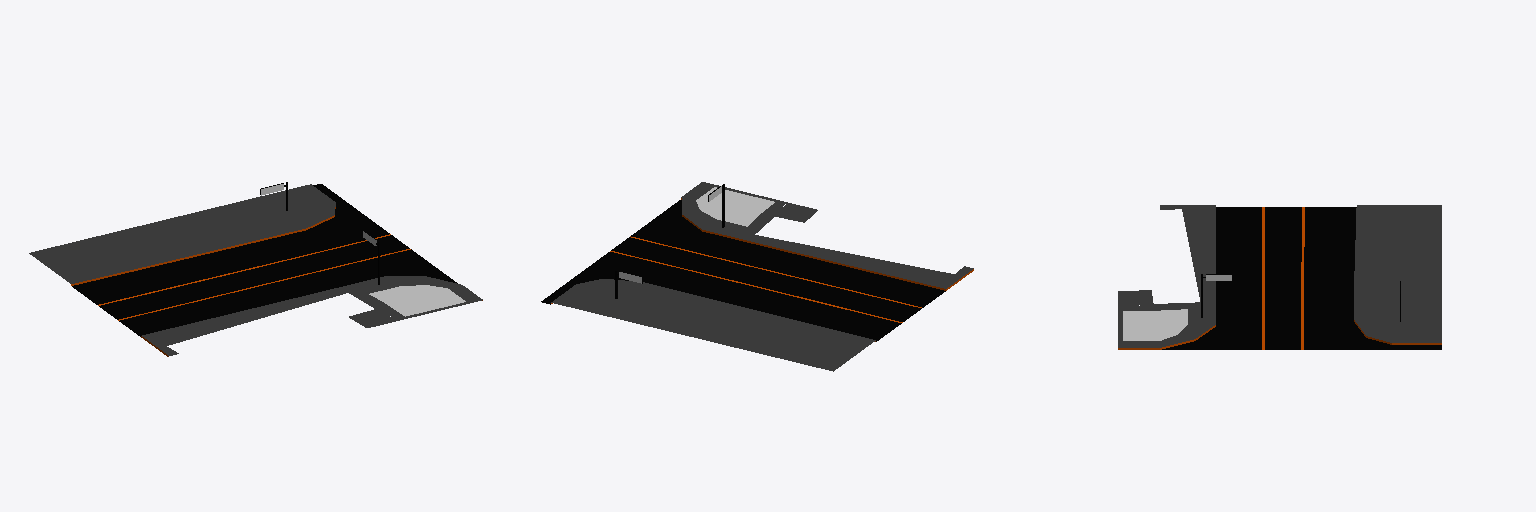
Rendered from 0A_phut_s.obj.
3 views of the same model, side by side, from view 1: azimuth 30°, elevation 25°; view 2: azimuth 150°, elevation 25°; view 3: azimuth 270°, elevation 25° (orthographic).
Bounding box in the file's own units: 16 × 2.35 × 15.32.